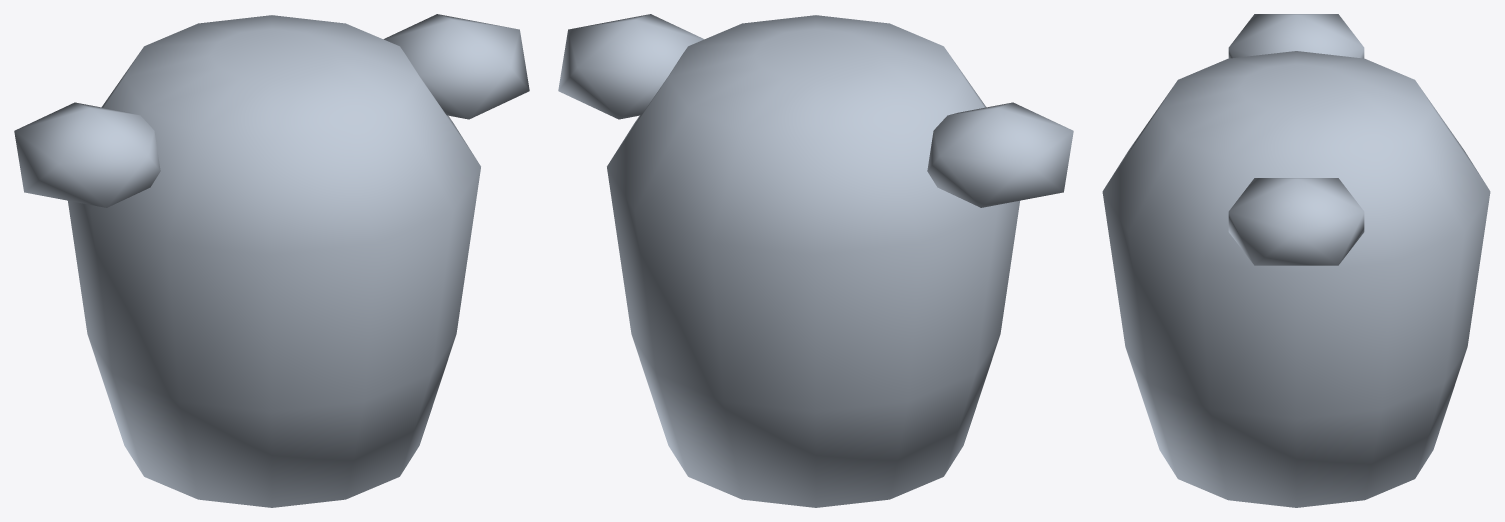
File: stellite_chainmail.glb
3 renders of one model, left to right at view 1: azimuth 30°, elevation 25°; view 2: azimuth 150°, elevation 25°; view 3: azimuth 270°, elevation 25°, orthographic. The views are drawn at different scales.
Visible parts, largest first — view 1: stellite_chainmail_v0; view 2: stellite_chainmail_v0; view 3: stellite_chainmail_v0.
Boxes of the visible parts, box(x1,y1,x2,y2) form: stellite_chainmail_v0: box(14, 14, 529, 507); stellite_chainmail_v0: box(558, 14, 1073, 507); stellite_chainmail_v0: box(1102, 14, 1490, 507).
Size of the model in its own units: 0.4652 by 0.35 by 0.34.
